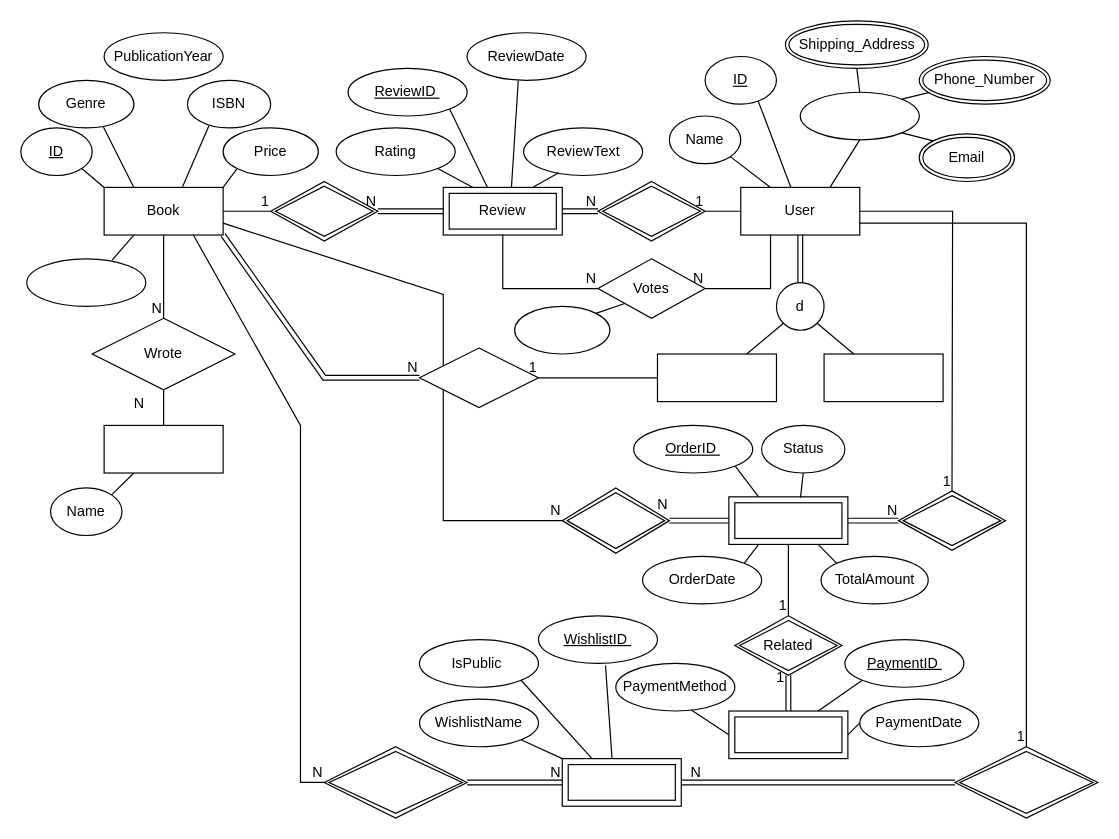
Some shapes in this 1119 by 839 pixel diagram are drawn without their labels. Here are the shapes that lost their labels. From the top down, the centre of each, then its label:
the point at 859,115: Contact
the point at 324,210: is_about
the point at 651,210: Reviews
the point at 86,282: StockQuantity
the point at 561,329: VoteType
the point at 478,377: Sells
the point at 716,377: Seller
the point at 883,377: Customer
the point at 163,448: Author
the point at 615,520: Contains
the point at 788,520: Order
the point at 951,520: Places
the point at 788,734: Payment
the point at 395,782: Includes
the point at 621,781: Wishlist
the point at 1026,782: Creates
